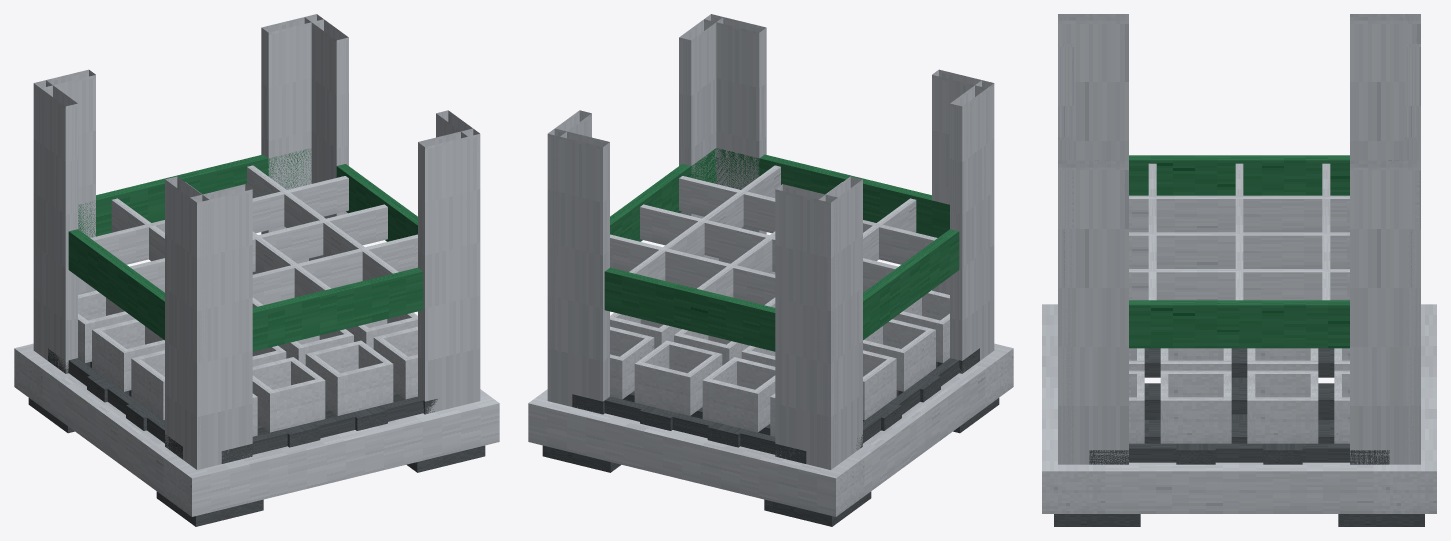
File: tvs_frame_bottom.obj
3 renders of one model, left to right at view 1: azimuth 30°, elevation 25°; view 2: azimuth 150°, elevation 25°; view 3: azimuth 270°, elevation 25°, orthographic. The views are drawn at different scales.
Size of the model in its own units: 1 by 1 by 1.
